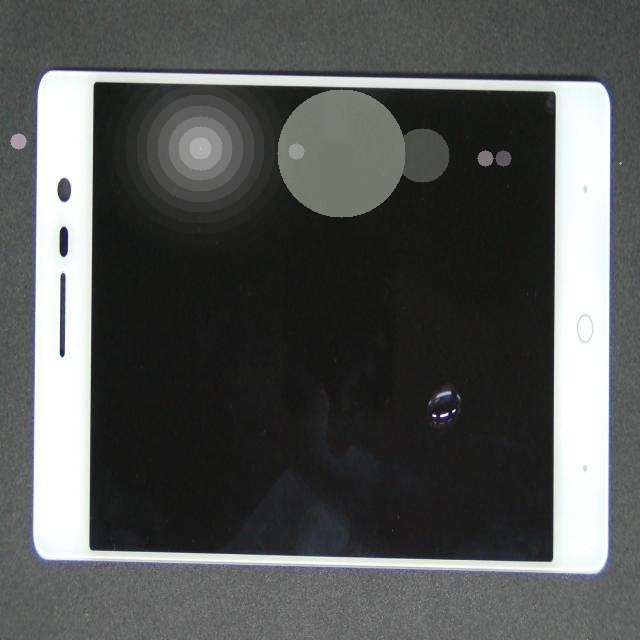oil: (242, 197, 640, 578)
